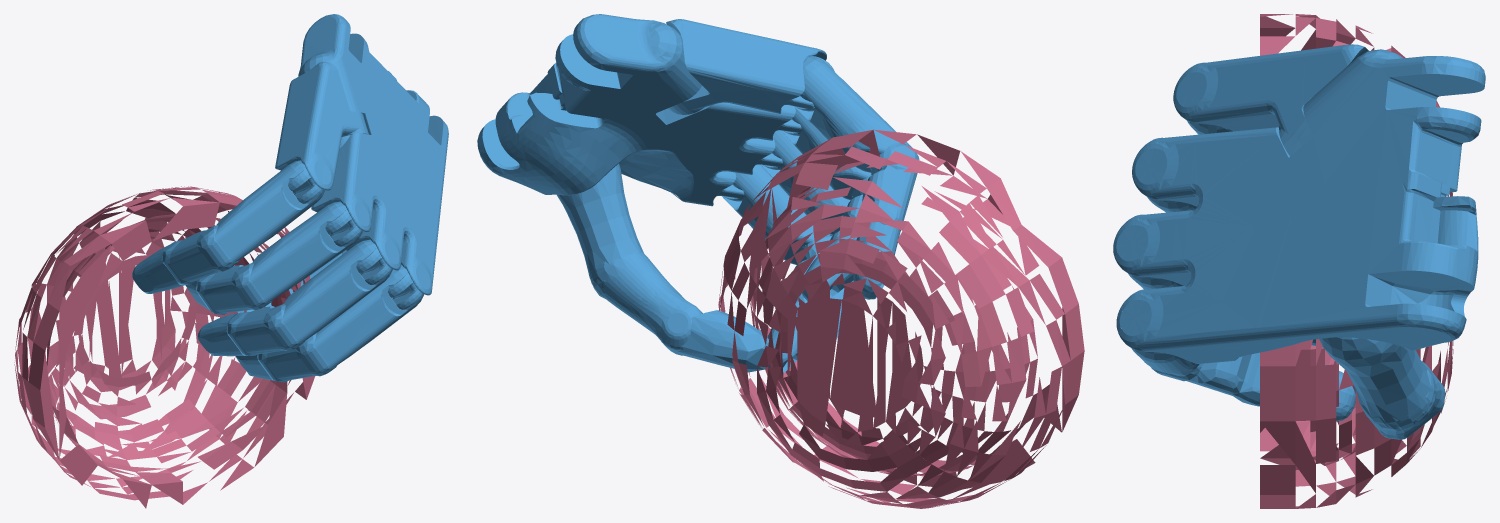
The picture shows the model from 3 angles, left to right: view 1: azimuth 30°, elevation 25°; view 2: azimuth 150°, elevation 25°; view 3: azimuth 270°, elevation 25°; orthographic projection. The views are drawn at different scales.
Visible parts, largest first — view 1: 4; view 2: 4; view 3: 4.
Boxes of the visible parts, bbox=[...] form: 4: bbox=[14, 14, 448, 508]; 4: bbox=[477, 14, 1084, 508]; 4: bbox=[1113, 14, 1485, 508].
Size of the model in its own units: 0.2243 by 0.1826 by 0.1047.
